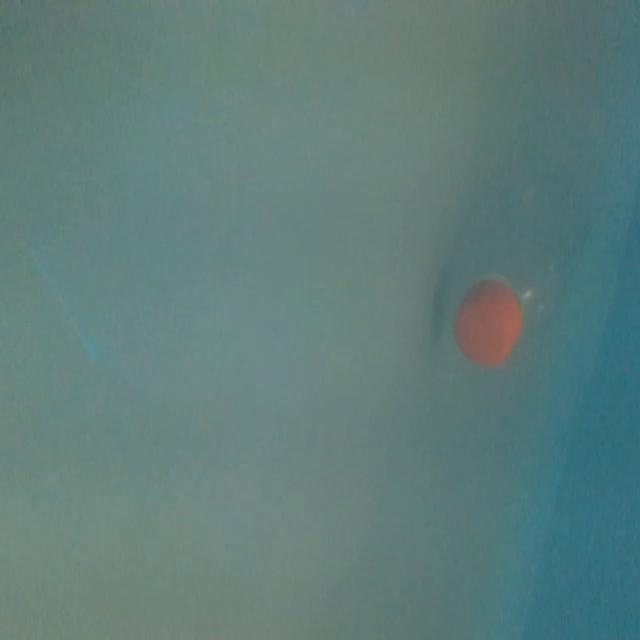plastic bottle: (437, 108, 614, 366)
